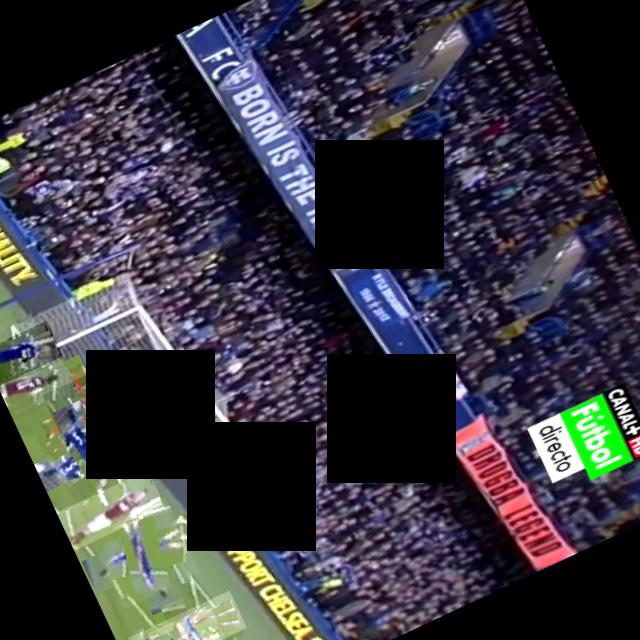goalkeeper: (42, 364, 140, 462)
soccer-player: (88, 495, 200, 608), (39, 405, 138, 504), (56, 468, 166, 550), (128, 590, 247, 640), (0, 352, 79, 420), (0, 319, 63, 385), (147, 603, 237, 640), (122, 627, 194, 640)
